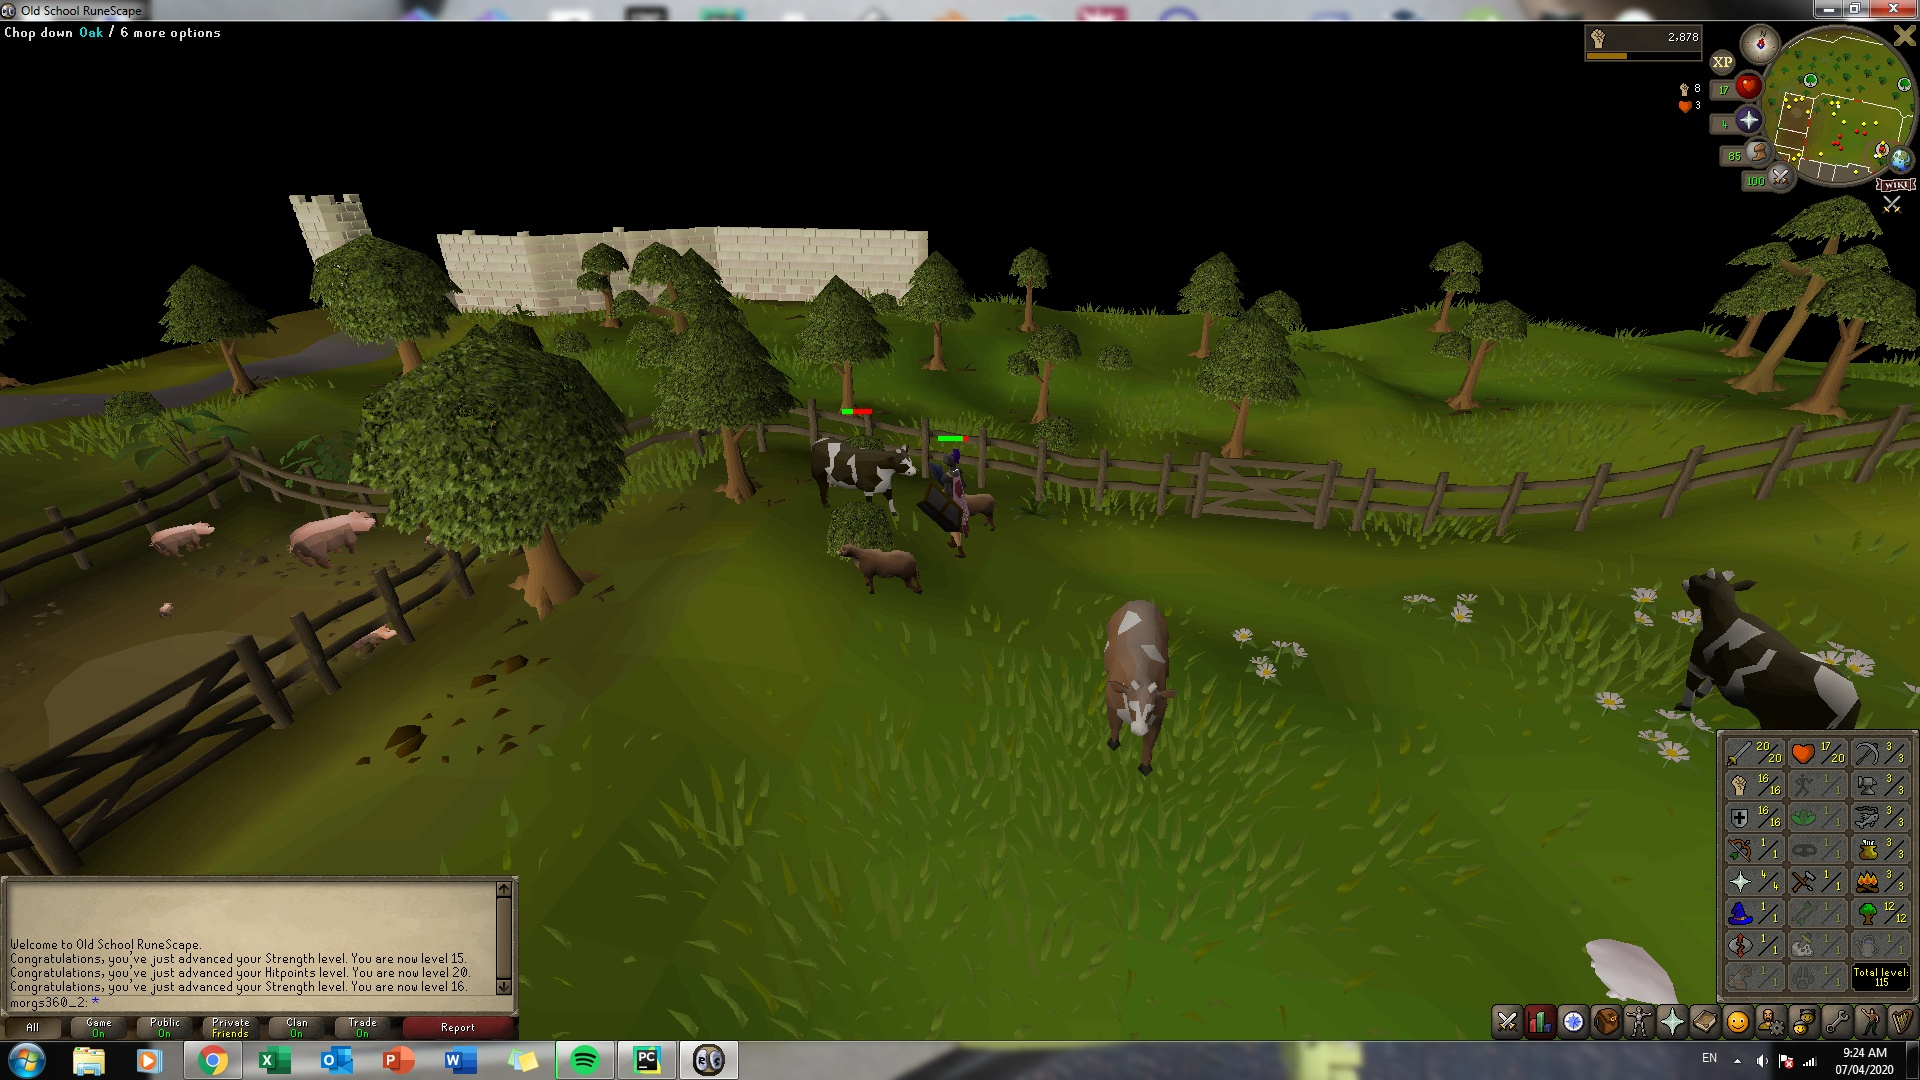cow: (1665, 564, 1875, 731), (1096, 596, 1176, 785), (798, 433, 920, 524)
